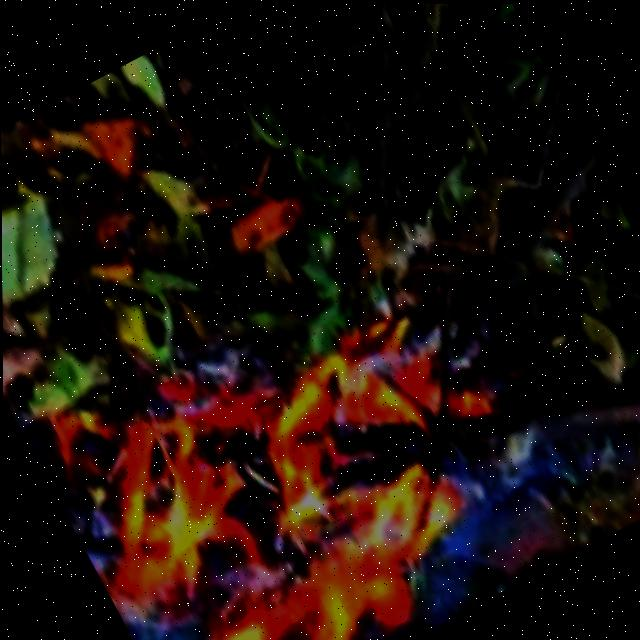Fire: (10, 212, 576, 640)
